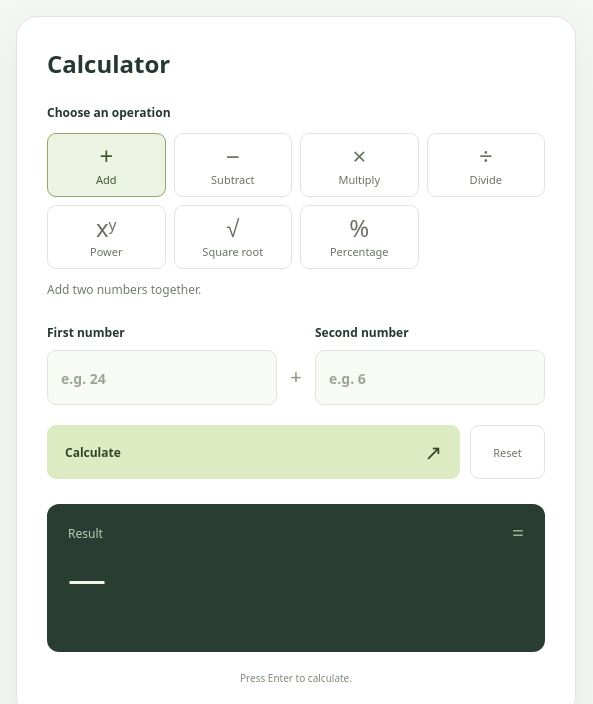
Test: calculator form › sends decimal strings and displays the result for 0.1 plus 0.2
Step 1. Type "0.1" into the field labelled "First number" → x=162, y=378, box left=47, top=350, right=277, bottom=405
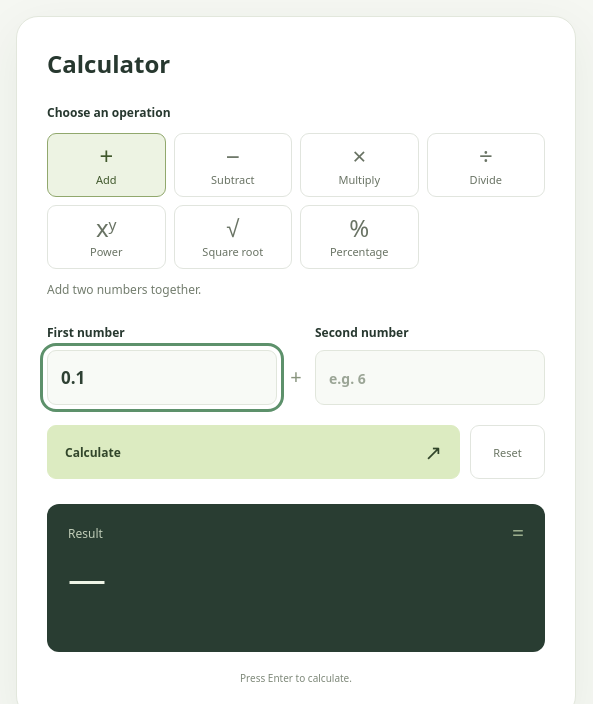
Step 2. Type "0.2" into the field labelled "Second number" → x=430, y=378, box left=315, top=350, right=545, bottom=405
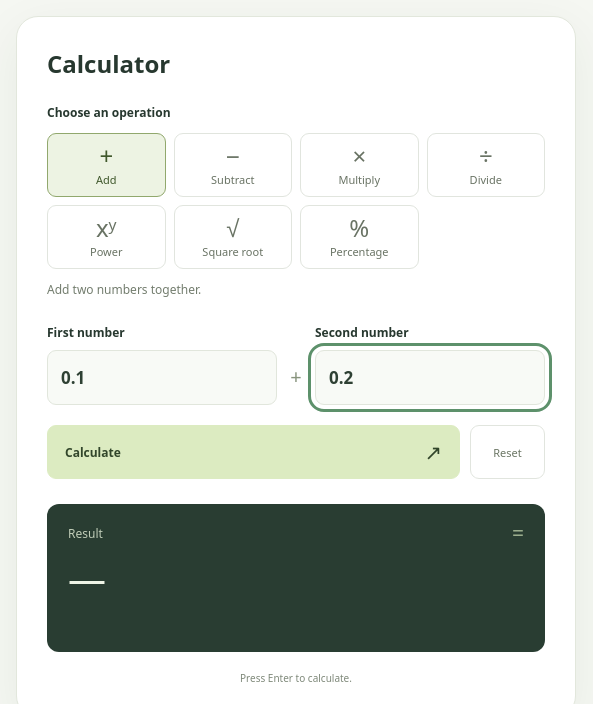
Step 3. Click the button "Calculate ↗" → x=93, y=452, box left=47, top=425, right=460, bottom=479
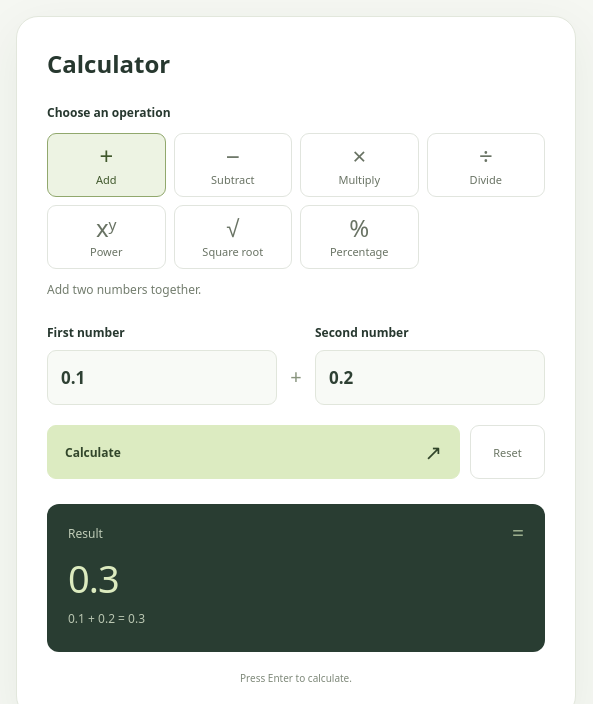
expect the text titled "0.3" is shown: met, box left=68, top=552, right=119, bottom=604
